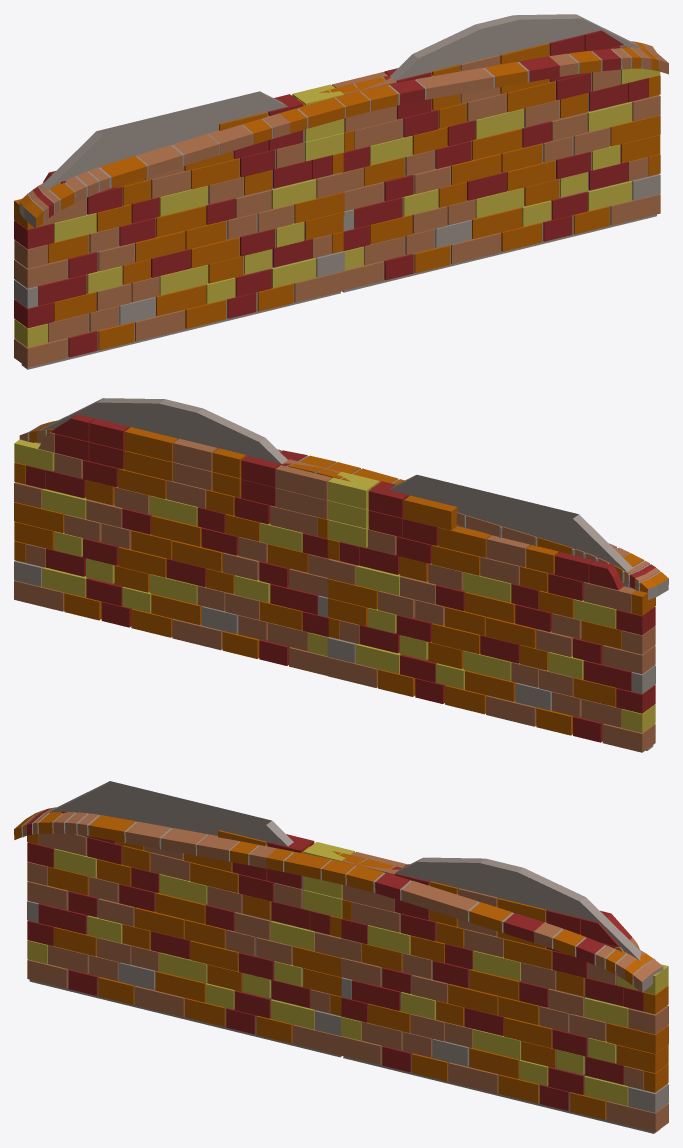
The model's file is Doublemur.fbx.
The picture shows the model from 3 angles, top to bottom: view 1: azimuth 30°, elevation 25°; view 2: azimuth 150°, elevation 25°; view 3: azimuth 330°, elevation 25°; orthographic projection.
Parts seen in each view (by area): view 1: Circle, Plane.003, Plane.004, Cube.224, Cube.260, Cube.221, Cube.257, Cube.349, Cube.313, Cube.264, Cube.320, Cube.356 (+125 smaller); view 2: Plane.003, Plane.004, Circle, Cube.402, Cube.297, Cube.401, Cube.391, Cube.292, Cube.260, Cube.224, Cube.279, Cube.349 (+146 smaller); view 3: Circle, Plane.004, Plane.003, Cube.344, Cube.308, Cube.257, Cube.313, Cube.349, Cube.221, Cube.320, Cube.356, Cube.228 (+124 smaller).
Part boxes in pixels (box(x1,y1,x2,y2)): Circle: box(19, 41, 668, 228); Plane.003: box(21, 91, 340, 369); Plane.004: box(342, 14, 656, 292); Cube.224: box(14, 338, 67, 367); Cube.260: box(14, 259, 67, 288); Cube.221: box(135, 310, 185, 341); Cube.257: box(135, 231, 185, 262); Cube.349: box(451, 153, 501, 185); Cube.313: box(451, 233, 501, 264); Cube.264: box(156, 205, 206, 237); Cube.320: box(472, 207, 522, 239); Cube.356: box(472, 128, 522, 160); Plane.003: box(389, 475, 653, 750); Plane.004: box(36, 398, 287, 464); Circle: box(19, 420, 668, 599); Cube.402: box(275, 459, 339, 500); Cube.297: box(404, 495, 457, 530); Cube.401: box(328, 471, 379, 509); Cube.391: box(124, 427, 177, 461); Cube.292: box(438, 526, 491, 557); Cube.260: box(602, 645, 655, 674); Cube.224: box(602, 723, 655, 752); Cube.279: box(583, 582, 636, 612); Cube.349: box(172, 540, 223, 571); Circle: box(14, 807, 663, 992); Plane.004: box(343, 857, 660, 1133); Plane.003: box(29, 781, 341, 1057); Cube.344: box(606, 1023, 668, 1053); Cube.308: box(606, 1101, 668, 1132); Cube.257: box(134, 907, 184, 938); Cube.313: box(448, 1062, 498, 1093); Cube.349: box(448, 984, 498, 1015); Cube.221: box(134, 986, 184, 1017); Cube.320: box(469, 1047, 519, 1078); Cube.356: box(469, 969, 519, 1000); Cube.228: box(155, 971, 205, 1002).
Bounding box in the file's own units: 1258 × 435 × 83.97.
